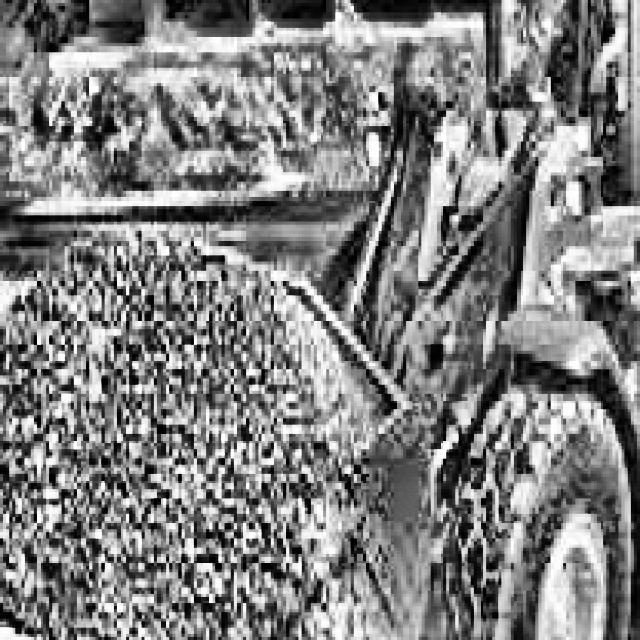buldozerpayloadergrader: (292, 0, 640, 640)
